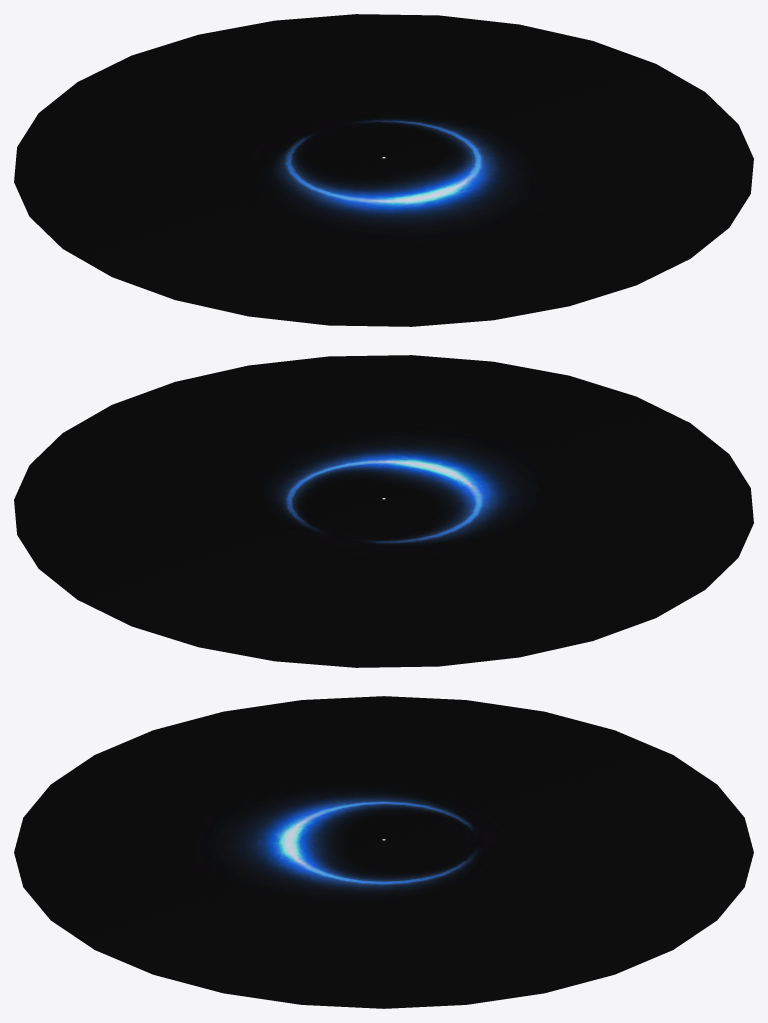
The model's file is shuimian.FBX.
3 renders of one model, top to bottom at view 1: azimuth 30°, elevation 25°; view 2: azimuth 150°, elevation 25°; view 3: azimuth 270°, elevation 25°, orthographic.
Visible parts, largest first — view 1: Cone001; view 2: Cone001; view 3: Cone001.
Boxes of the visible parts, x1,y1,x2,y2 form: Cone001: [14, 14, 753, 326]; Cone001: [14, 355, 753, 667]; Cone001: [14, 696, 753, 1008].
Size of the model in its own units: 23.21 by 0.4383 by 23.21.
Materials: 1 (1 with a texture image).
